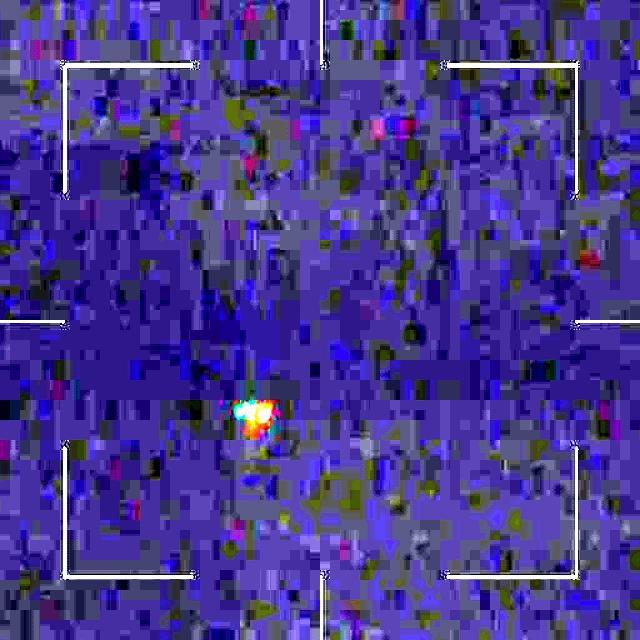bird: (239, 396, 272, 435)
